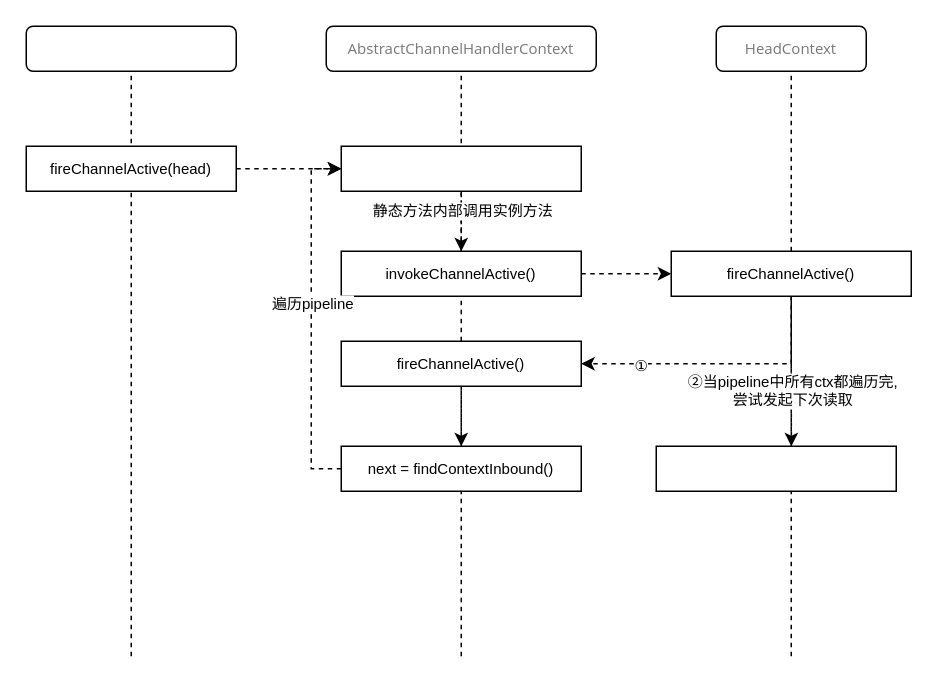
Image size: 938x684. Some labels were removed from this diagram. The centre of each missing label's shape, as x and y in pixels:
"DefaultChannelPipeline" goes at (x=130, y=48).
"invokeChannelActive(next)" goes at (x=460, y=168).
"readIfIsAutoRead()" goes at (x=775, y=468).
